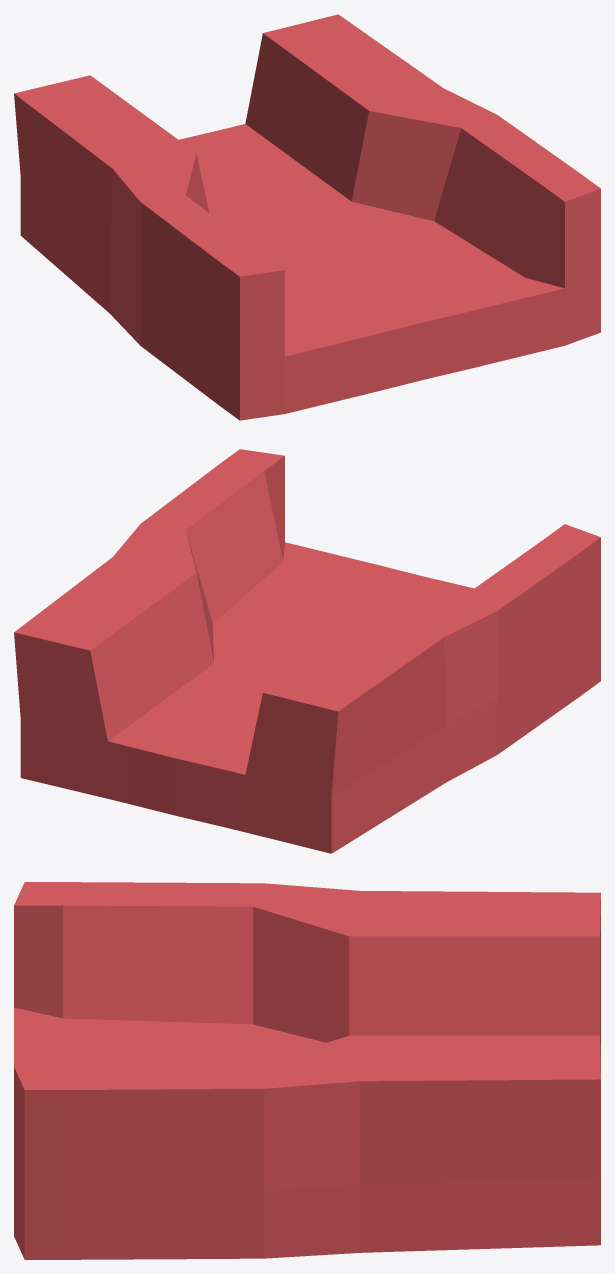
File: platform.glb
3 renders of one model, top to bottom at view 1: azimuth 30°, elevation 25°; view 2: azimuth 150°, elevation 25°; view 3: azimuth 270°, elevation 25°, orthographic. The views are drawn at different scales.
Visible parts, largest first — view 1: Cube.001; view 2: Cube.001; view 3: Cube.001.
Part boxes in pixels (bbox=[...]): Cube.001: bbox=[14, 14, 600, 420]; Cube.001: bbox=[14, 449, 600, 853]; Cube.001: bbox=[14, 882, 600, 1259].
Size of the model in its own units: 64.27 by 24.48 by 76.68.
